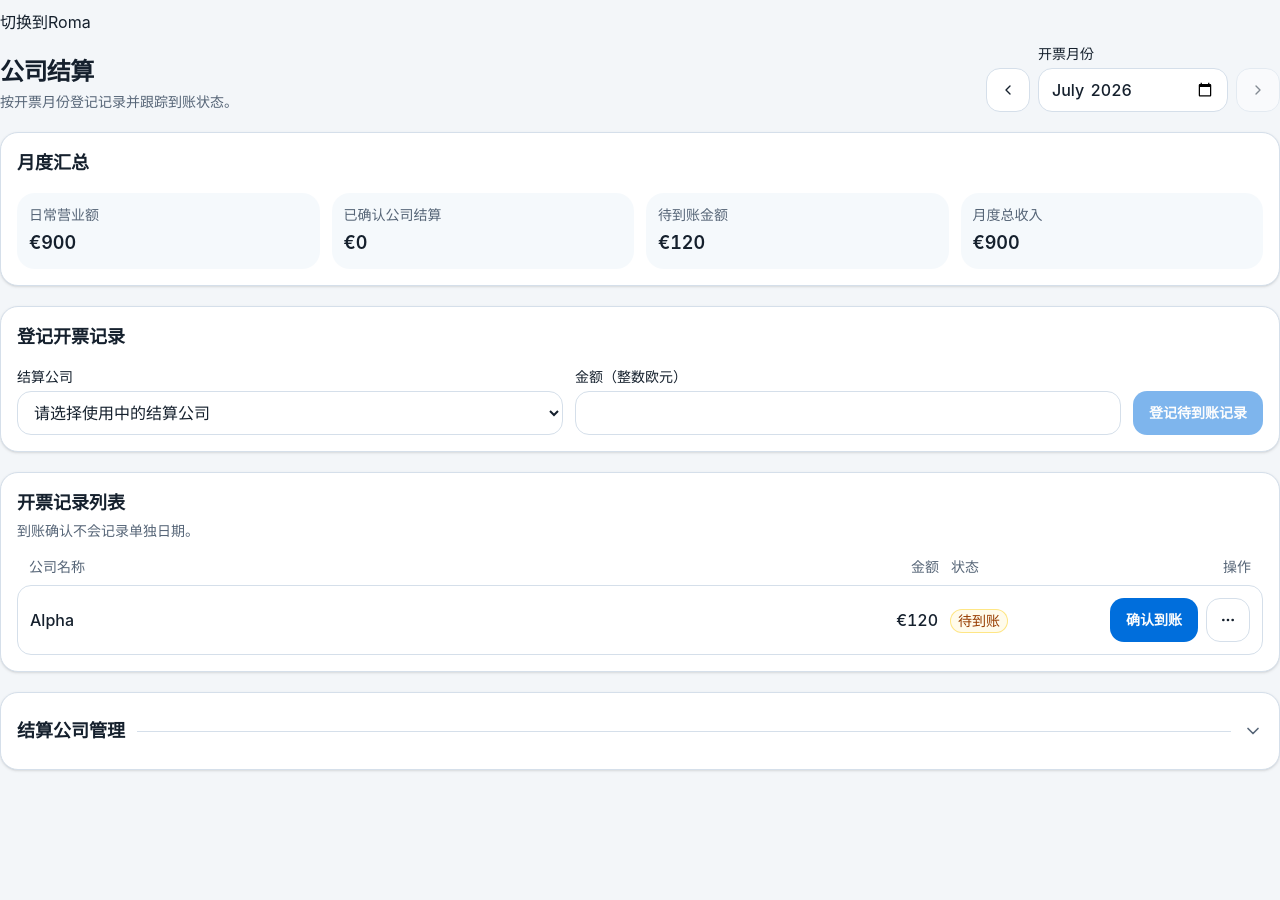
Test case: CompanySettlementPage record corrections › confirms the whole record after an explicit prompt and refreshes its month
This screenshot has width=1280, height=900.
Click the button with aria-label "确认Alpha开票记录到账" at (1154, 620), box [1110,598,1198,642]
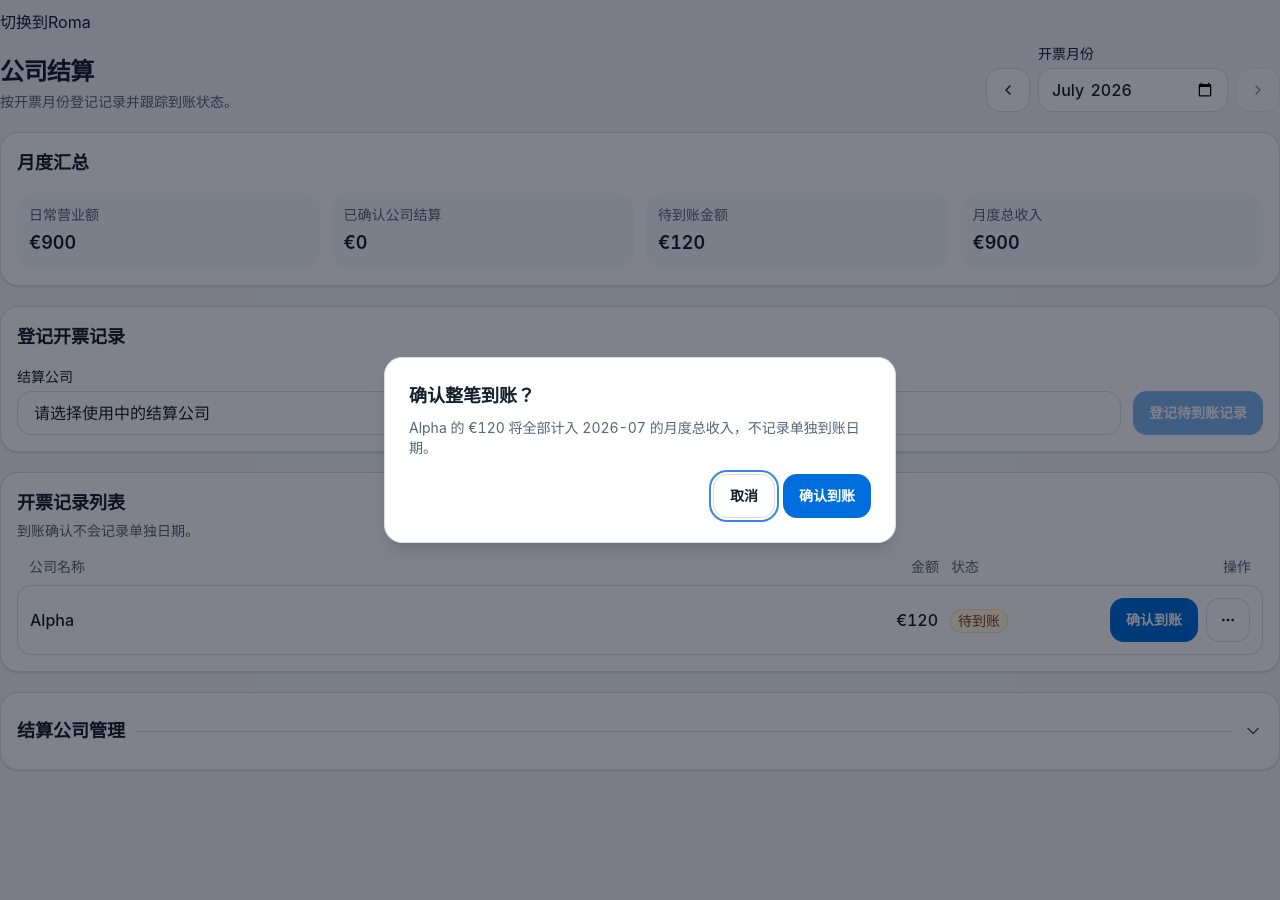
Now the dialog "确认整笔到账？" is shown, box [384,357,896,543]
Click the button "确认到账" at (827, 496), box [783,474,871,518]
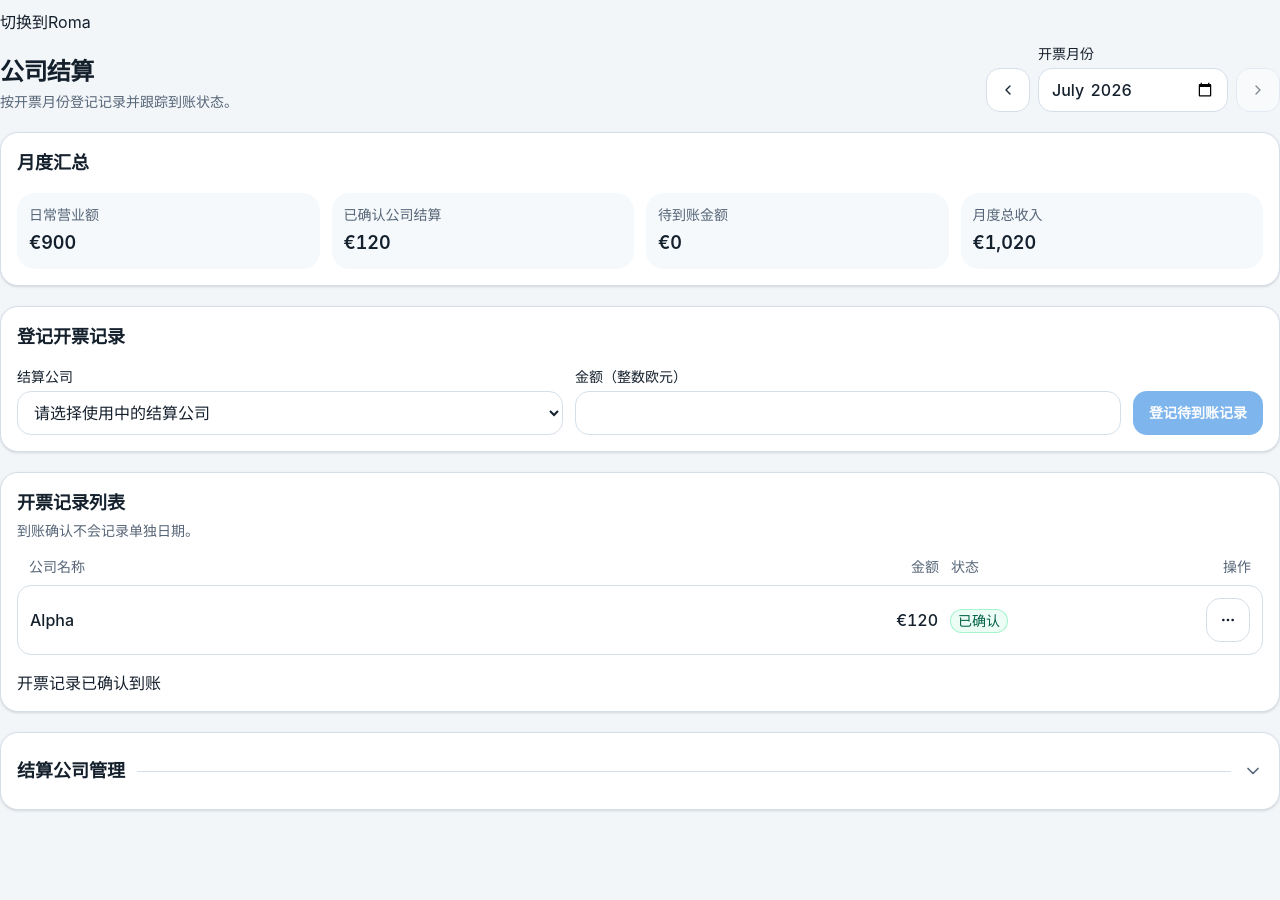
Now the message reads "开票记录已确认到账", box [17,673,161,693]
Click the 5th button at (1228, 620), box [1206,598,1250,642]
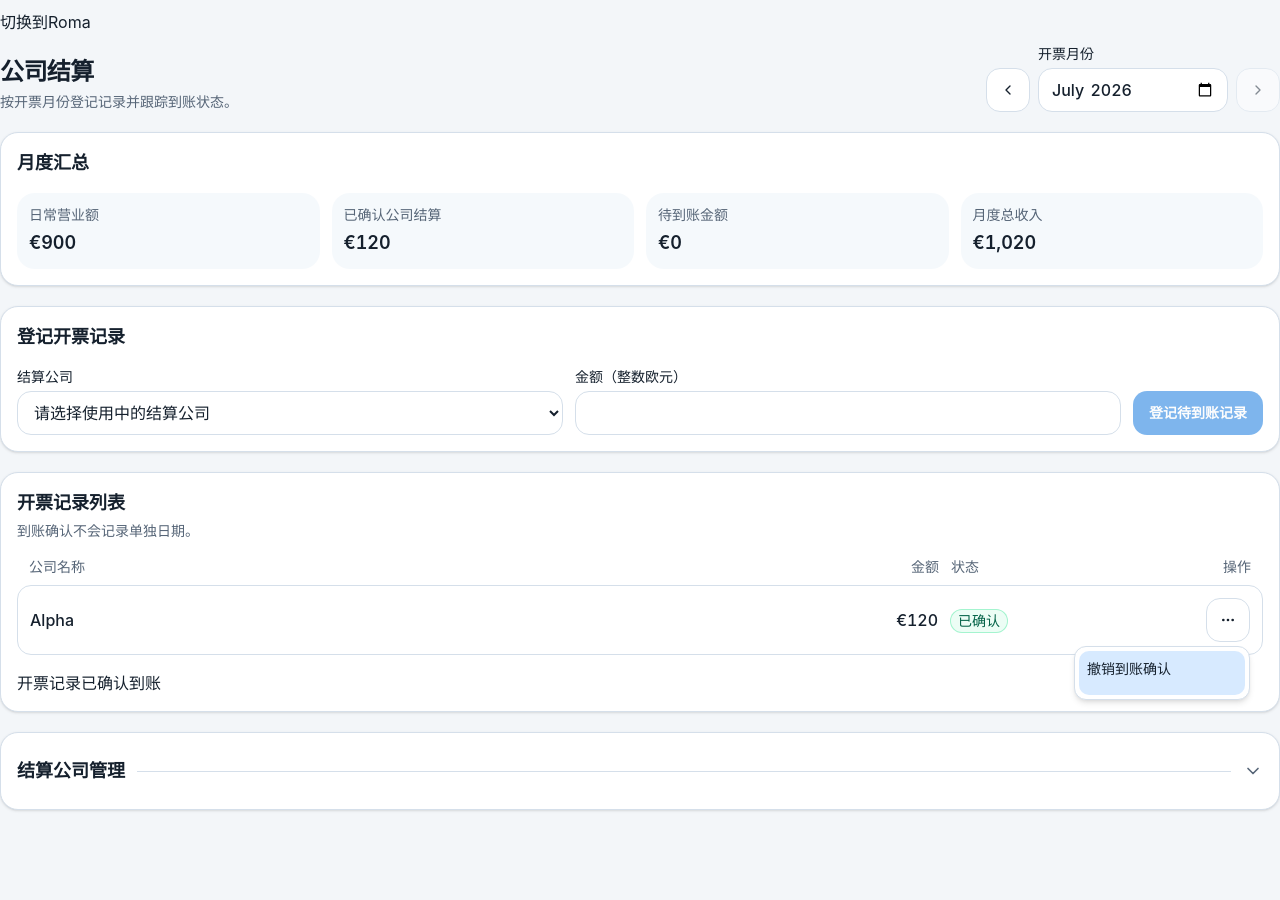
Now the text "€120" below "已确认公司结算" is shown, box [344,232,391,253]
Now the menu item with aria-label "撤销Alpha开票记录到账确认" is shown, box [1079,651,1245,695]
